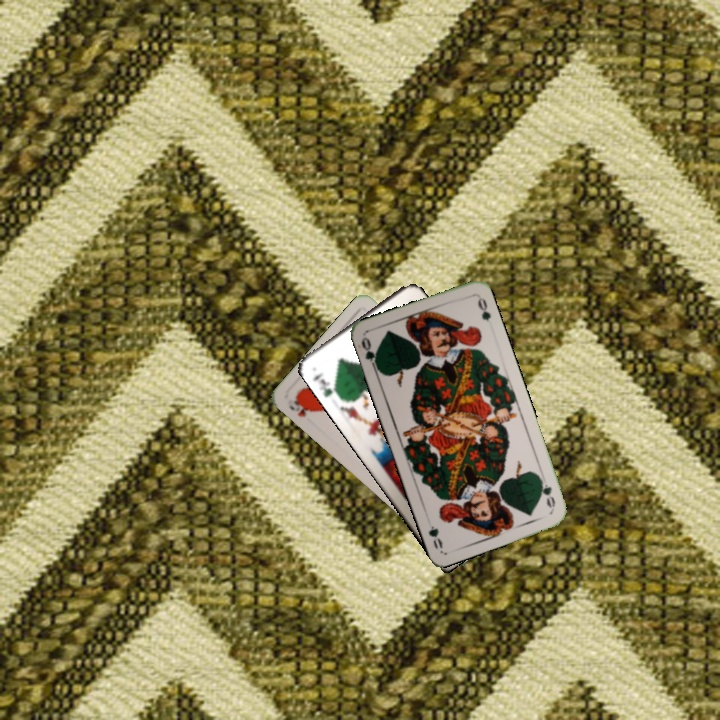GK: (309, 368, 341, 400)
GO: (357, 334, 383, 374), (535, 473, 558, 511)
HO: (284, 393, 314, 420)
